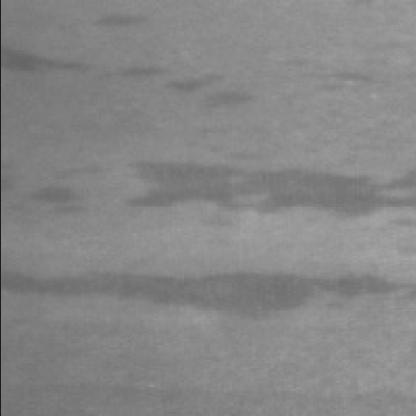inclusion: (0, 266, 412, 320), (112, 160, 414, 224), (108, 66, 256, 112), (0, 46, 89, 84), (19, 185, 102, 221), (87, 9, 152, 40)
